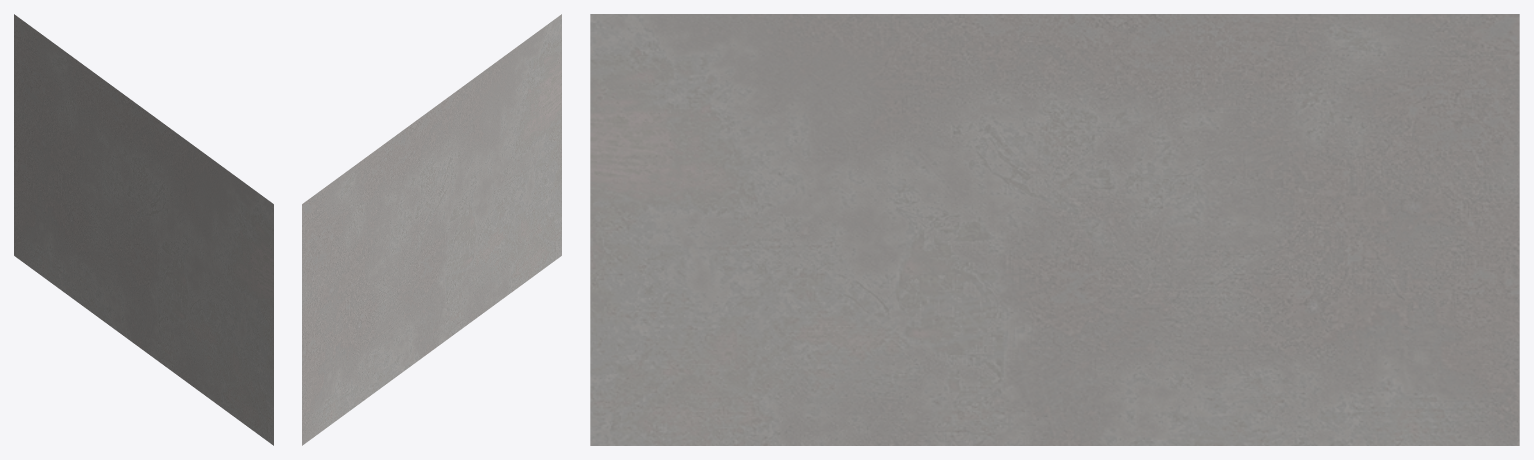
Rendered from left_wall.glb.
3 views of the same model, side by side, from view 1: azimuth 30°, elevation 25°; view 2: azimuth 150°, elevation 25°; view 3: azimuth 270°, elevation 25° (orthographic). The views are drawn at different scales.
Parts seen in each view (by area): view 1: Left_Wall; view 2: Left_Wall; view 3: Left_Wall.
Boxes of the visible parts, box(x1,y1,x2,y2) form: Left_Wall: box(14, 14, 273, 445); Left_Wall: box(302, 14, 561, 445); Left_Wall: box(590, 14, 1519, 445).
Size of the model in its own units: 4.77e-07 by 3.04 by 5.92.
1 material, 1 textured.
